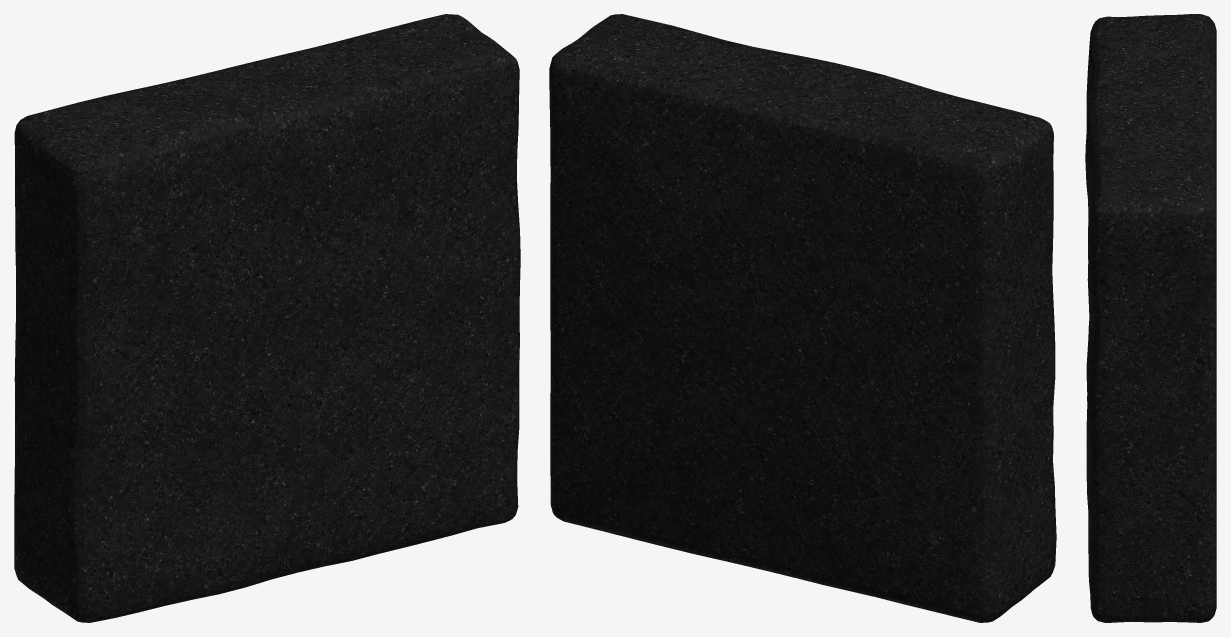
Rendered from tak-upright-black.glb.
3 views of the same model, side by side, from view 1: azimuth 30°, elevation 25°; view 2: azimuth 150°, elevation 25°; view 3: azimuth 270°, elevation 25° (orthographic). The views are drawn at different scales.
Visible parts, largest first — view 1: tak-upright-black; view 2: tak-upright-black; view 3: tak-upright-black.
Boxes of the visible parts, x1=… form: tak-upright-black: x1=14, y1=14, x2=520, y2=622; tak-upright-black: x1=549, y1=14, x2=1056, y2=622; tak-upright-black: x1=1085, y1=14, x2=1216, y2=622.
Bounding box in the file's own units: 0.0283 × 0.0283 × 0.00789.
1 material, 1 textured.
